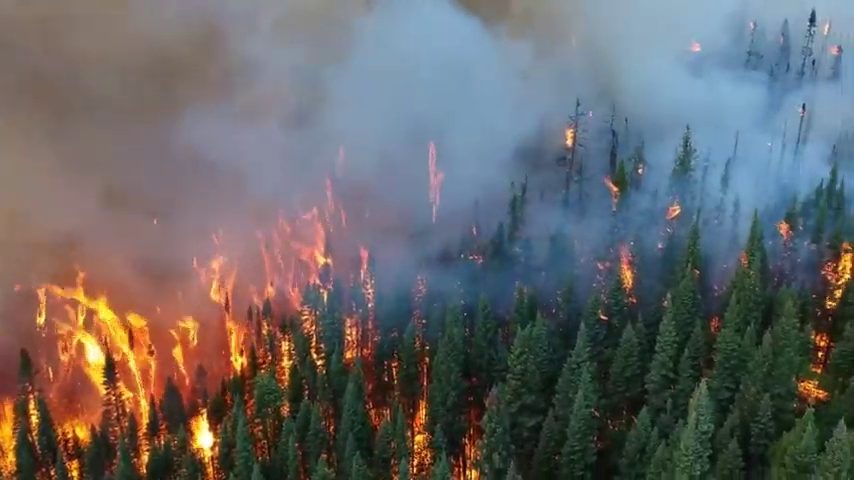forest_fire: (36, 272, 157, 415), (264, 209, 331, 305), (196, 255, 248, 372), (409, 357, 432, 473), (798, 334, 829, 399), (822, 242, 853, 307), (169, 316, 199, 381), (190, 407, 214, 455), (0, 400, 16, 472), (360, 247, 374, 314), (428, 142, 442, 206), (342, 314, 360, 363), (619, 245, 634, 301), (60, 418, 90, 444), (277, 339, 294, 380)
